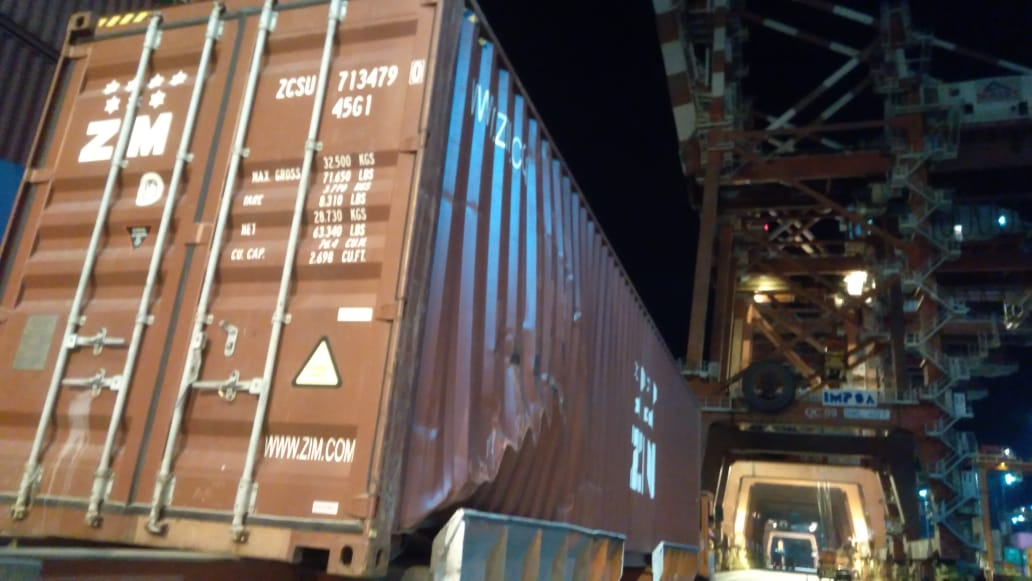moderate: (422, 363, 597, 514)
